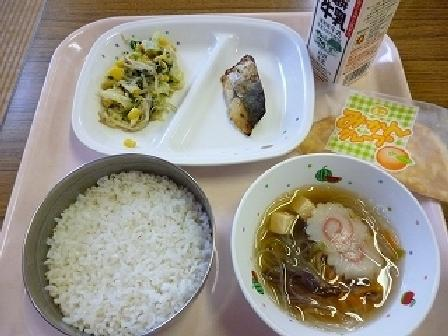Fish: (214, 49, 284, 143)
Milk: (297, 0, 413, 88)
Rice: (22, 165, 218, 332)
Salad: (87, 36, 189, 136)
Soups: (234, 167, 442, 335)
pastry: (290, 94, 447, 190)
